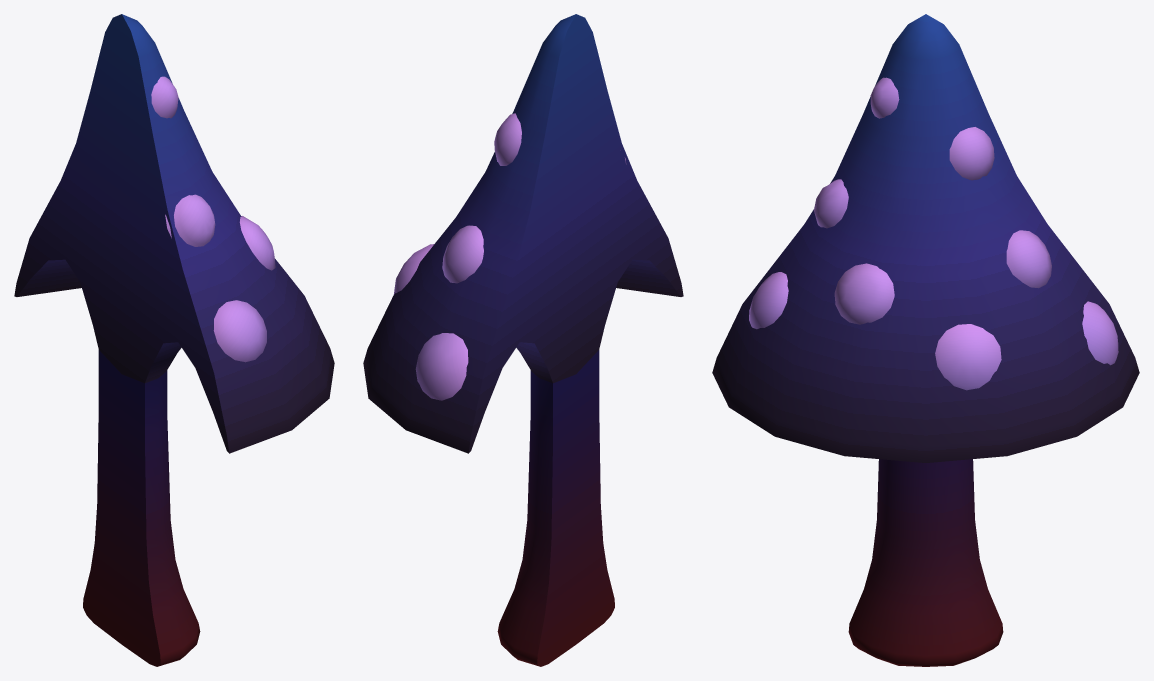
The model's file is Midnight_Mushroom_Source_1_Adjusted.fbx.
3 views of the same model, side by side, from view 1: azimuth 30°, elevation 25°; view 2: azimuth 150°, elevation 25°; view 3: azimuth 270°, elevation 25° (orthographic).
Visible parts, largest first — view 1: Midnight_Mushroom_Source_1_Adjusted; view 2: Midnight_Mushroom_Source_1_Adjusted; view 3: Midnight_Mushroom_Source_1_Adjusted.
Boxes of the visible parts, x1,y1,x2,y2 form: Midnight_Mushroom_Source_1_Adjusted: (14,14,334,666); Midnight_Mushroom_Source_1_Adjusted: (363,14,683,666); Midnight_Mushroom_Source_1_Adjusted: (712,14,1139,666).
Bounding box in the file's own units: 15.71 × 50.25 × 31.06.
